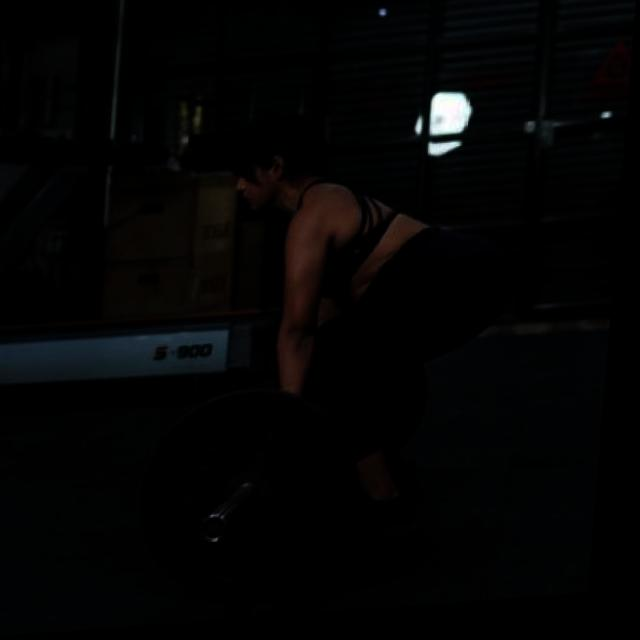barbell: (139, 385, 367, 625)
